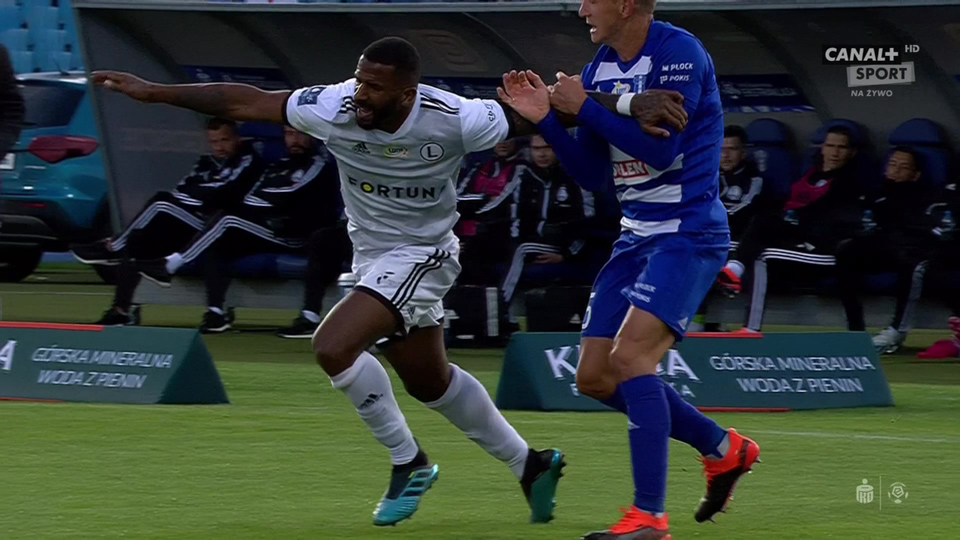Adidas: (351, 138, 372, 154)
